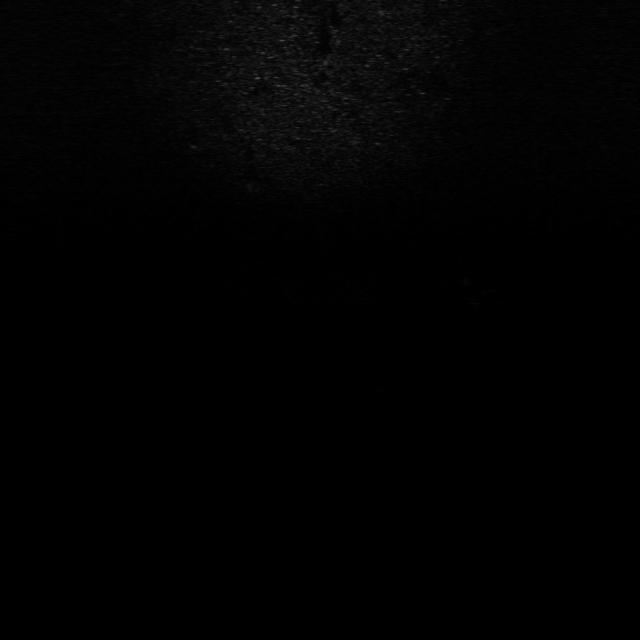human body: (454, 266, 484, 310)
